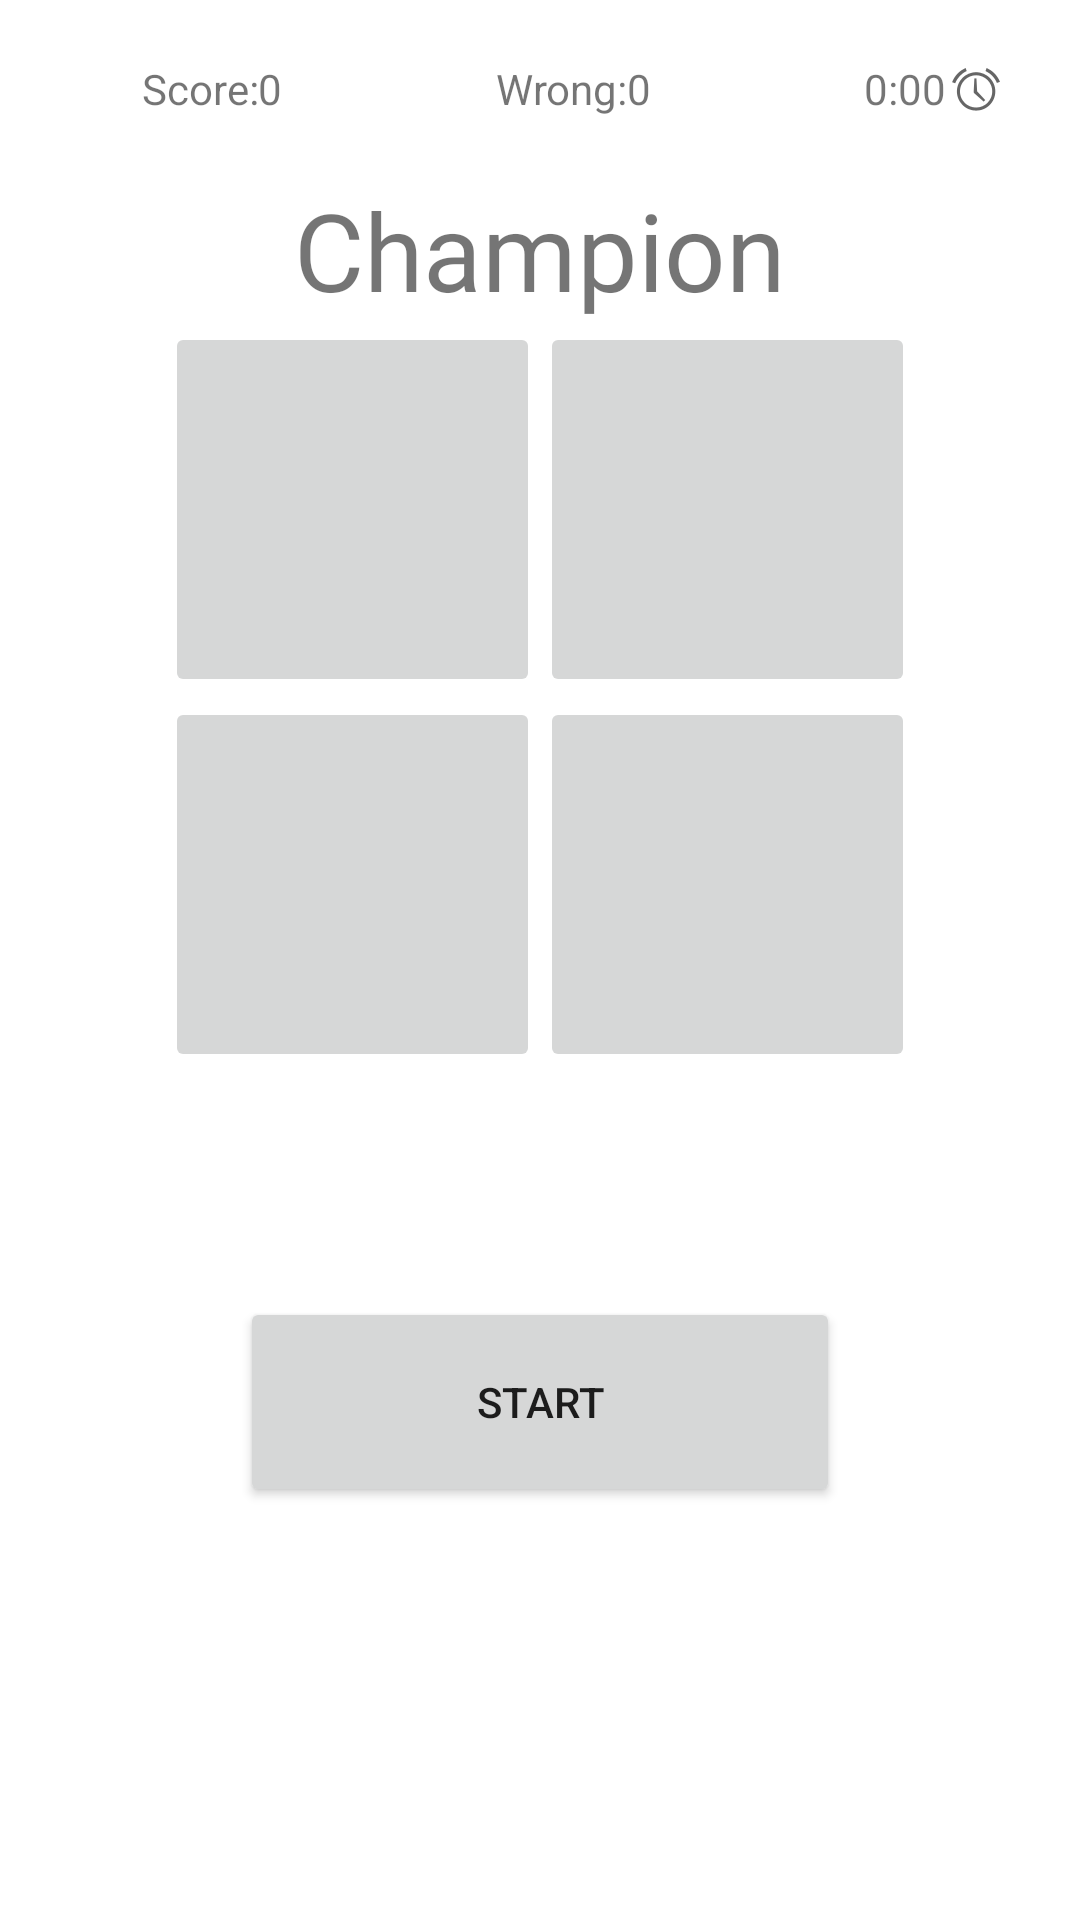

Named icons in this screenshot (1080px x 1920px) and their centers, (x,y):
lock idle alarm: (976,89)
